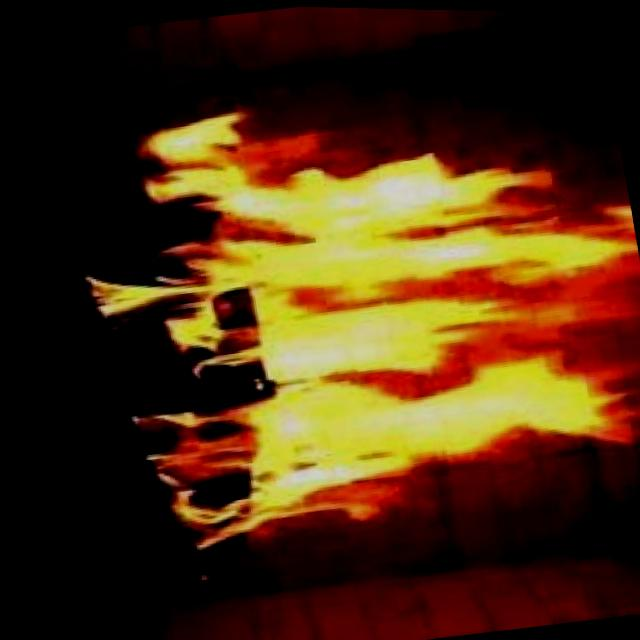helmet: (43, 42, 640, 578)
